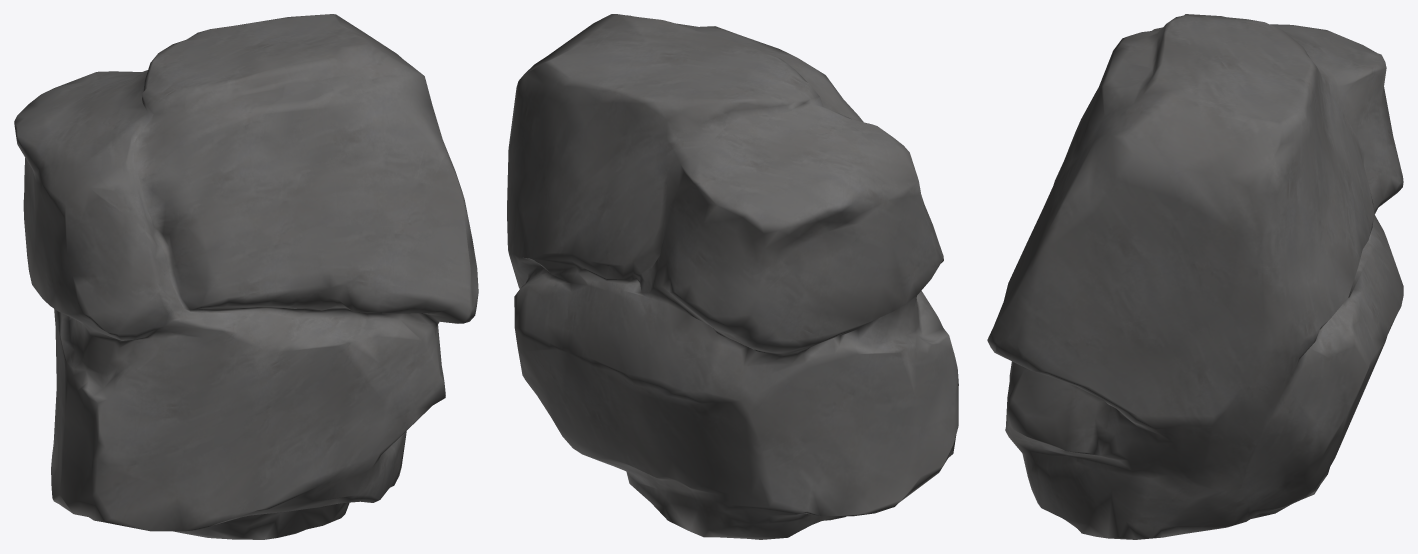
File: Cliff2.fbx
3 renders of one model, left to right at view 1: azimuth 30°, elevation 25°; view 2: azimuth 150°, elevation 25°; view 3: azimuth 270°, elevation 25°, orthographic. The views are drawn at different scales.
Visible parts, largest first — view 1: Cliffstone3:Group44600; view 2: Cliffstone3:Group44600; view 3: Cliffstone3:Group44600.
Part boxes in pixels (box(x1,y1,x2,y2)): Cliffstone3:Group44600: box(14, 14, 478, 539); Cliffstone3:Group44600: box(507, 14, 958, 539); Cliffstone3:Group44600: box(987, 14, 1403, 539).
Bounding box in the file's own units: 1262 × 1407 × 1123.
